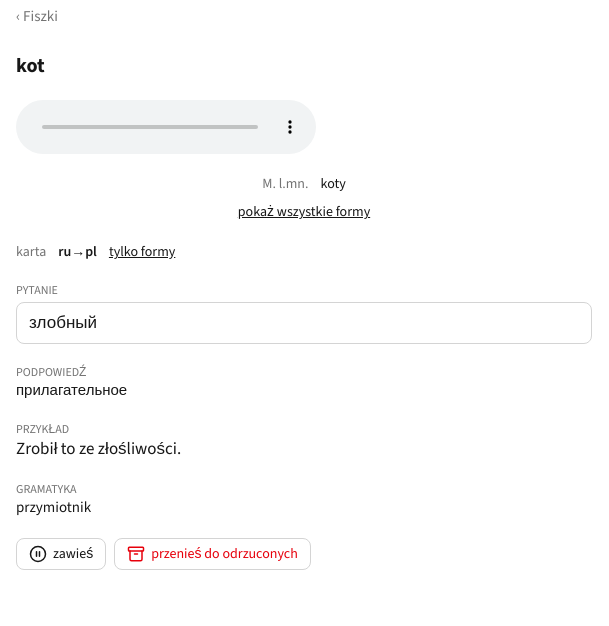
Test: CardDetailPage › shows an error when the switch is refused
Click the button "tylko formy". click: (142, 252)
box: 109,242 -> 175,262
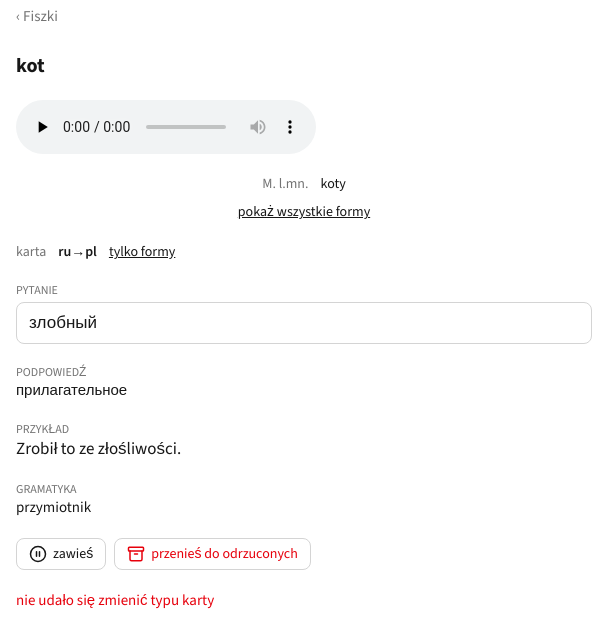
Result: the text "nie udało się zmienić typu karty" is shown at 16,590 -> 214,610
